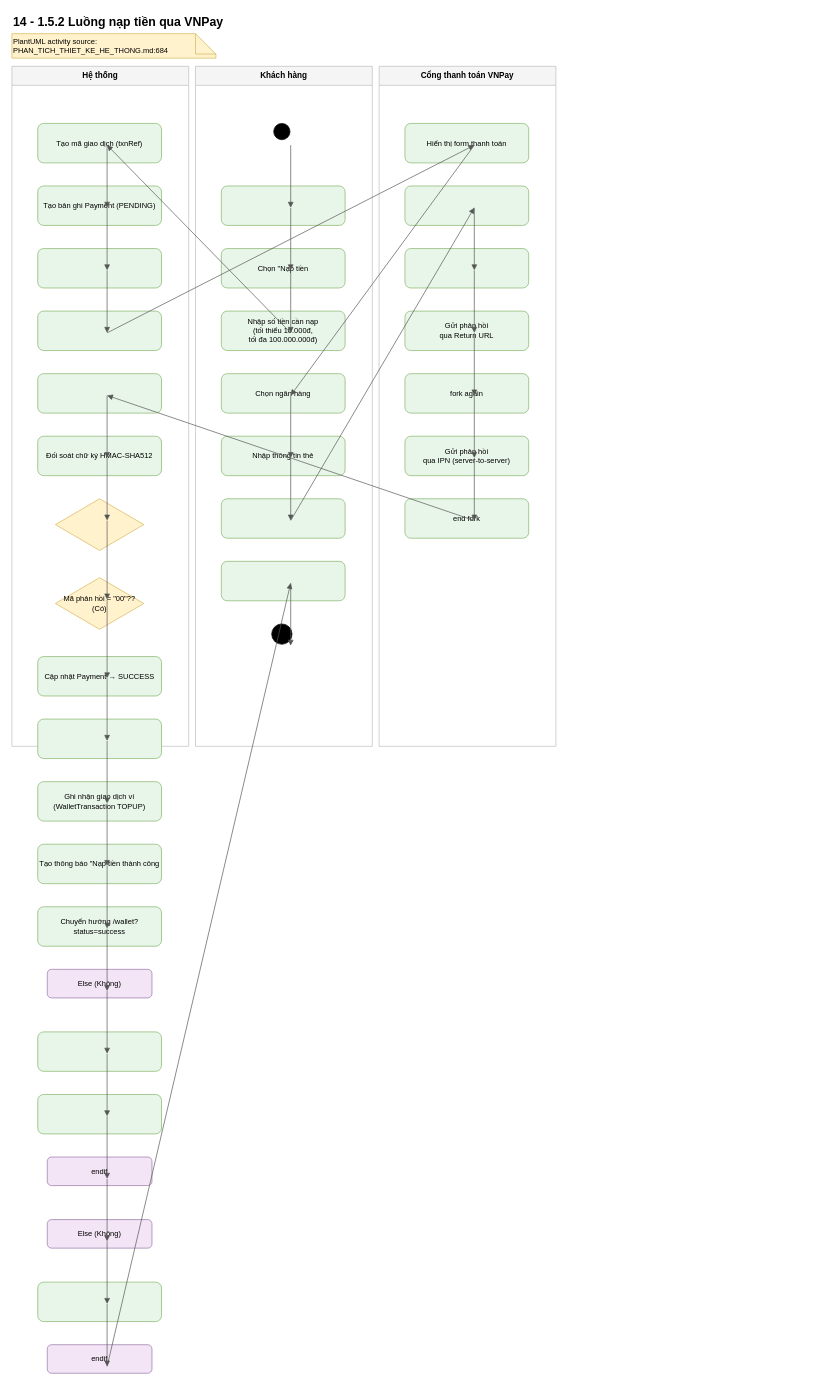
Image size: 840x1385. Some labels were removed from this diagram. The centre of each missing label's shape, as x and y in pixels:
"Chuyển hướng /wallet?status=failed" belongs at pixel 99 1114.
"Chuyển hướng /wallet?status=invalid" belongs at pixel 99 1301.
"Chuyển hướng sang VNPay" belongs at pixel 99 330.
"Chữ ký hợp lệ?? (Có)" belongs at pixel 99 524.
"Cập nhật Payment → FAILED" belongs at pixel 99 1051.
"Cộng tiền vào ví (Wallet.balance += amount)" belongs at pixel 99 738.
"fork" belongs at pixel 466 268.
"Khởi tạo URL thanh toán VNPay (ký HMAC-SHA512)" belongs at pixel 99 268.
"Nhận phản hồi từ VNPay" belongs at pixel 99 393.
"Vào trang quản lý ví" belongs at pixel 283 205.
"Xem kết quả nạp tiền" belongs at pixel 283 581.
"Xác nhận thanh toán" belongs at pixel 283 518.
"Xử lý giao dịch" belongs at pixel 466 205.
